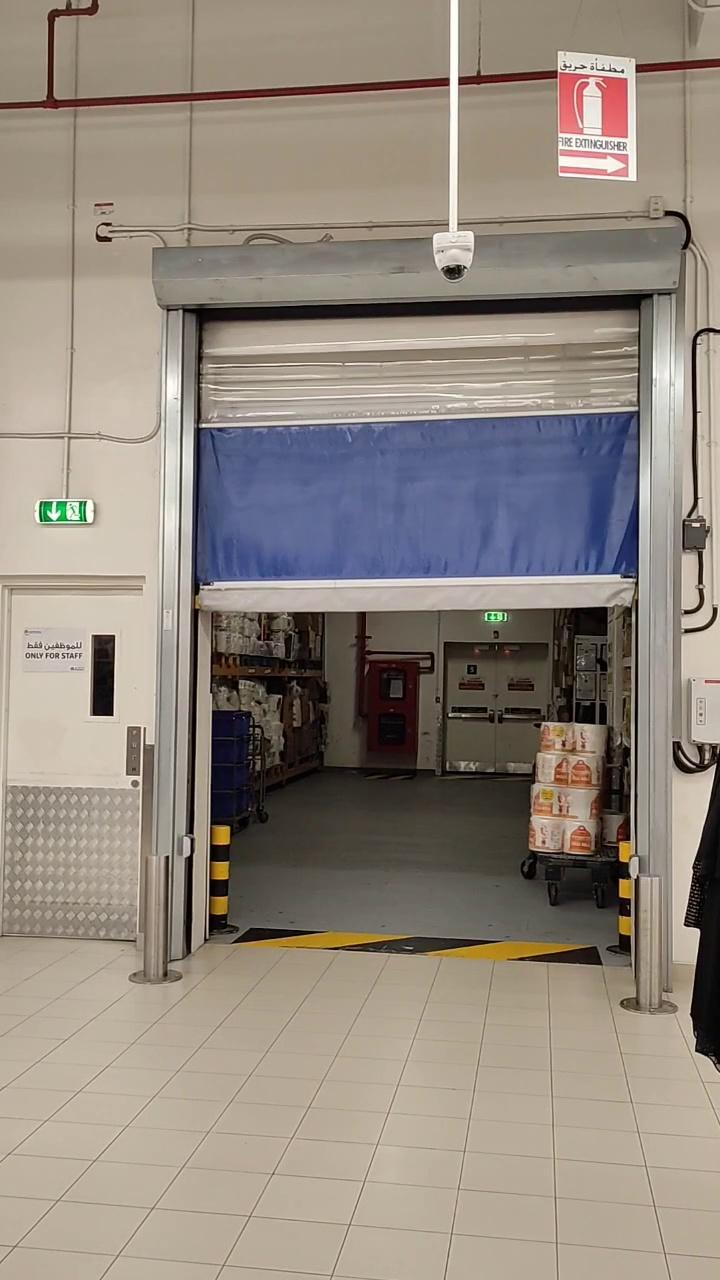Strip: (233, 918, 603, 967)
